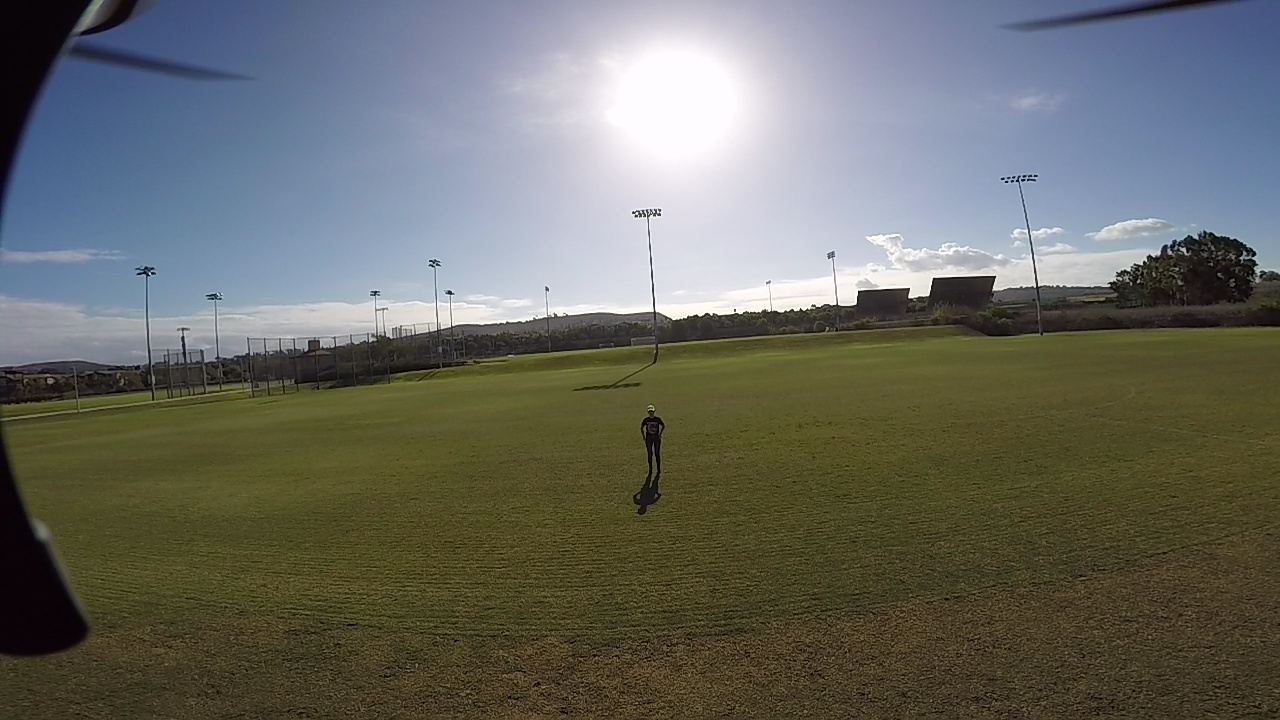person: (632, 398, 662, 509)
